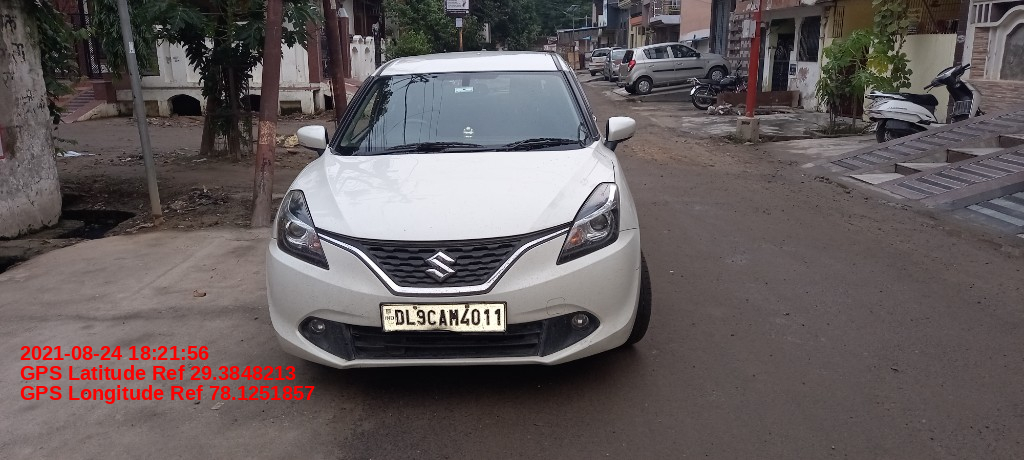Scratched: (581, 333, 600, 351), (397, 225, 413, 237), (635, 261, 644, 275), (427, 222, 438, 232)
